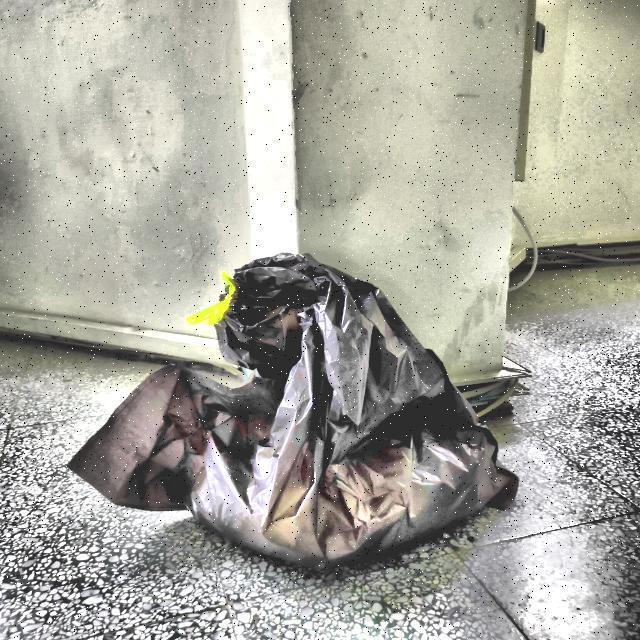Trashbag: (67, 251, 529, 579)
